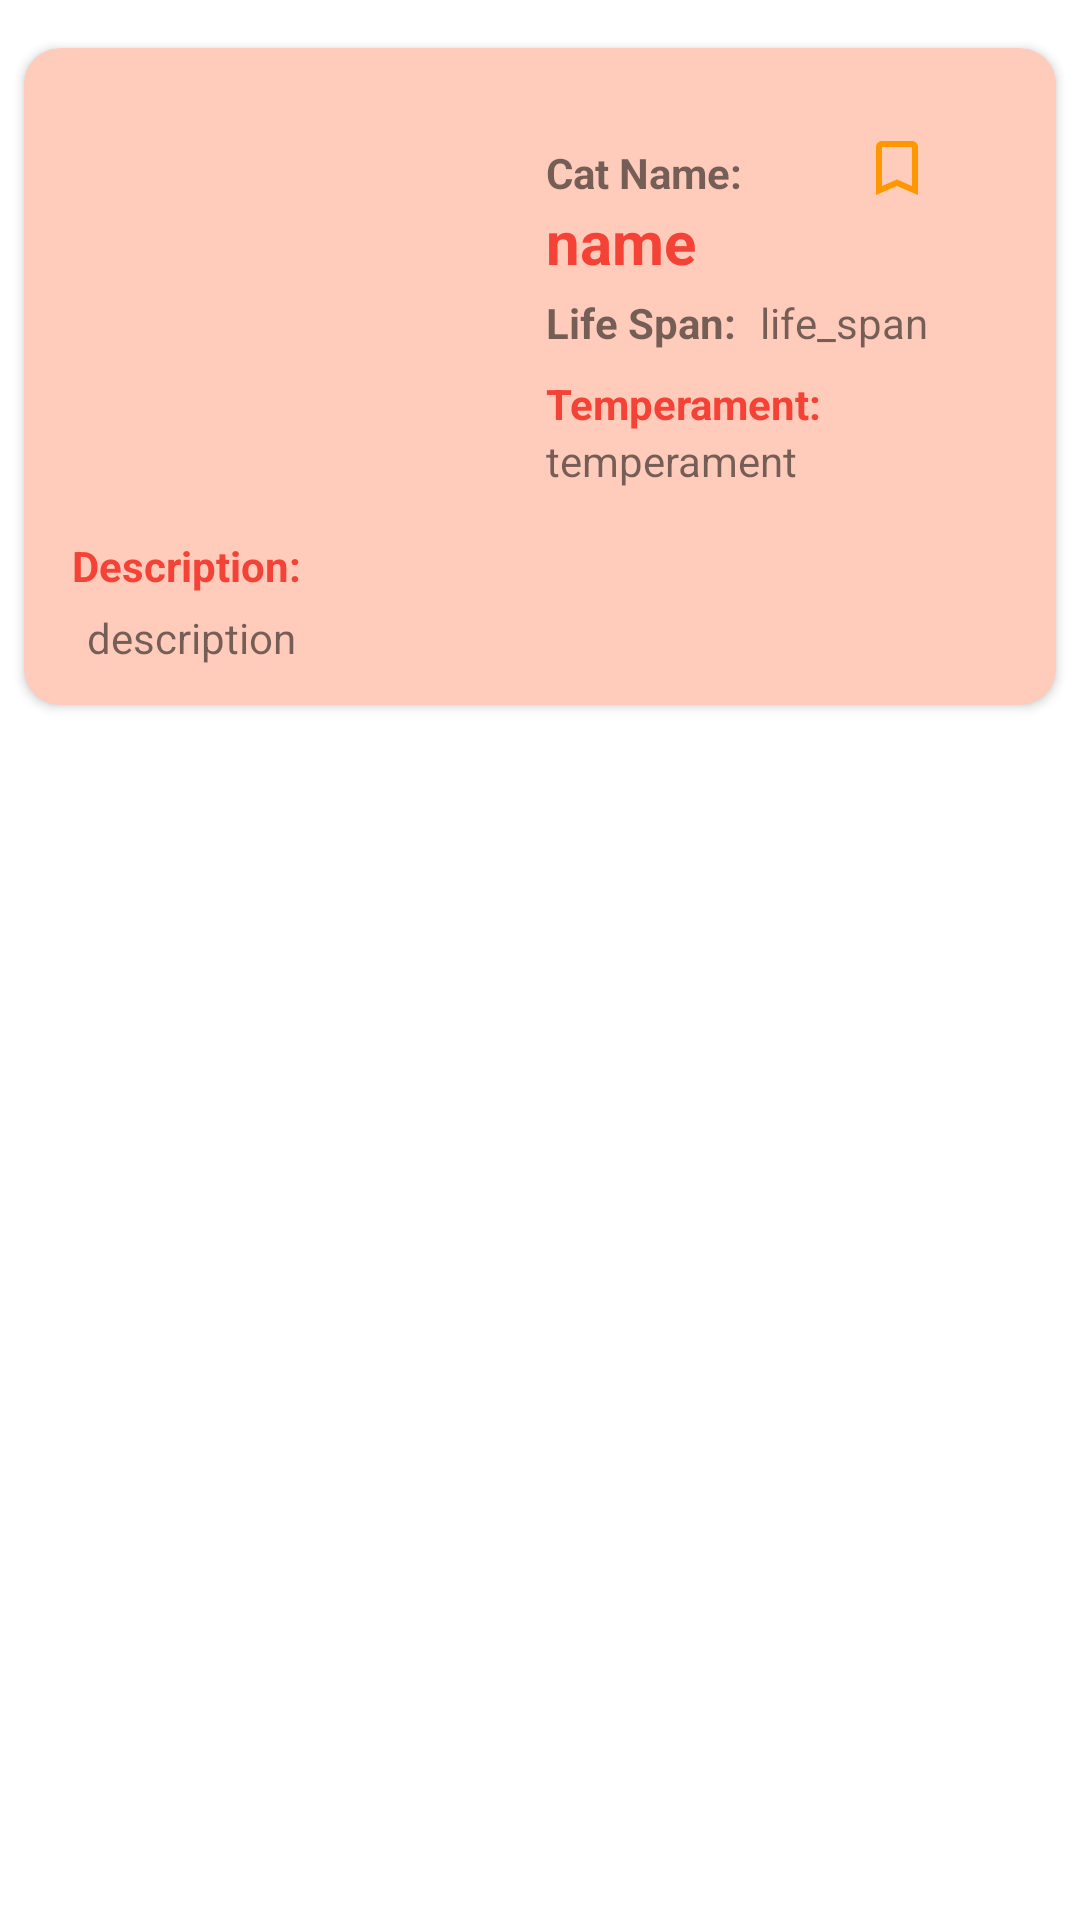

Point at icon controls on the screen. Image size 1080×1920, points as point (x, y).
turnedinnot: point (897, 168)
